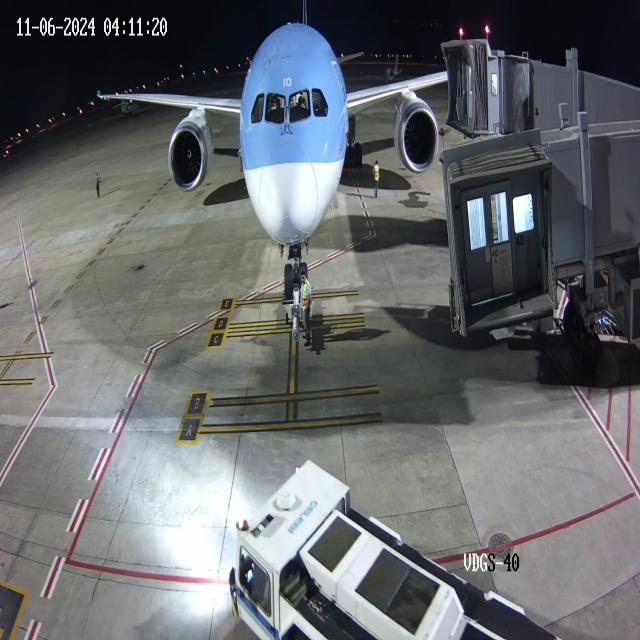bridge: (471, 33, 533, 143)
plane: (90, 0, 440, 301)
window: (249, 82, 330, 128)
